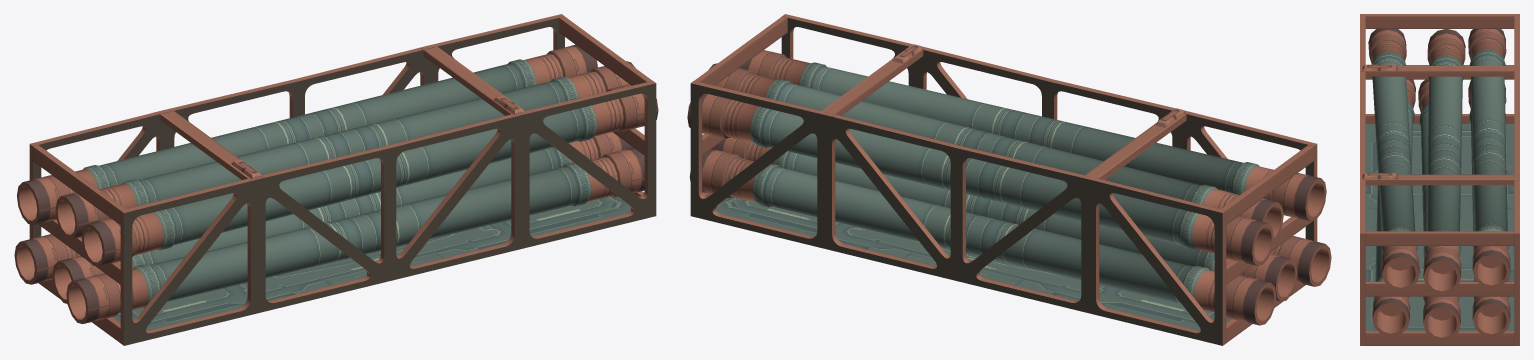
Rendered from Coupler.gltf.
The picture shows the model from 3 angles, left to right: view 1: azimuth 30°, elevation 25°; view 2: azimuth 150°, elevation 25°; view 3: azimuth 270°, elevation 25°; orthographic projection. The views are drawn at different scales.
Parts seen in each view (by area): view 1: Prop_PipeHolder; view 2: Prop_PipeHolder; view 3: Prop_PipeHolder.
Boxes of the visible parts, x1,y1,x2,y2 form: Prop_PipeHolder: [14, 14, 658, 345]; Prop_PipeHolder: [687, 14, 1331, 345]; Prop_PipeHolder: [1360, 14, 1519, 345].
Bounding box in the file's own units: 4.12 × 0.9274 × 1.16.
3 materials, 2 textured.
